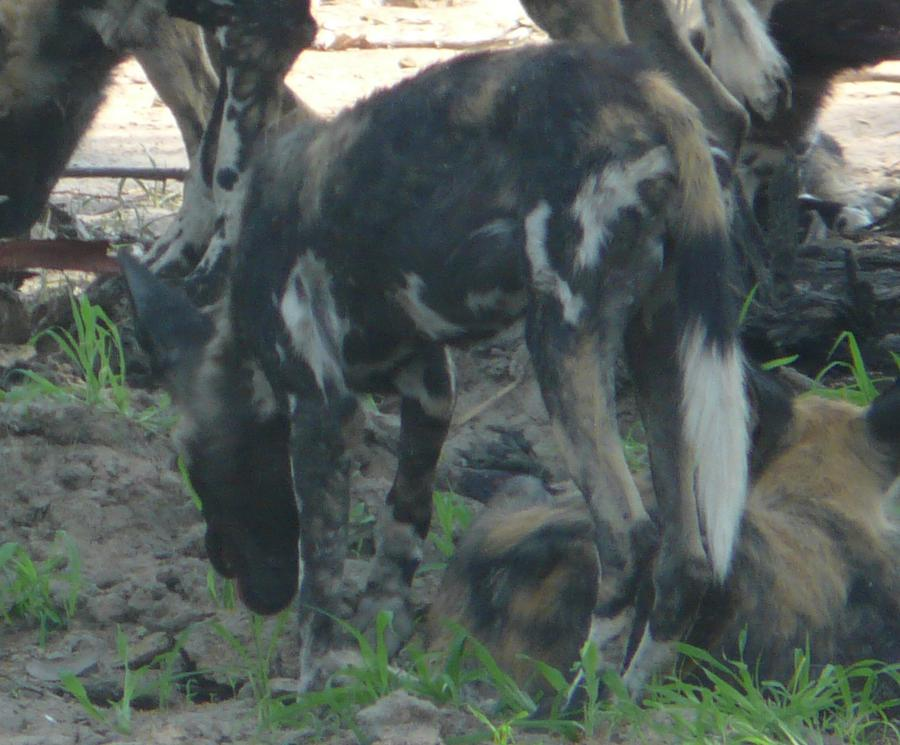wilddog: (1, 1, 900, 745)
